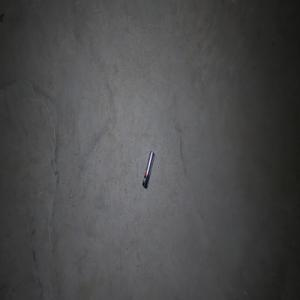Battery: (142, 150, 155, 188)
